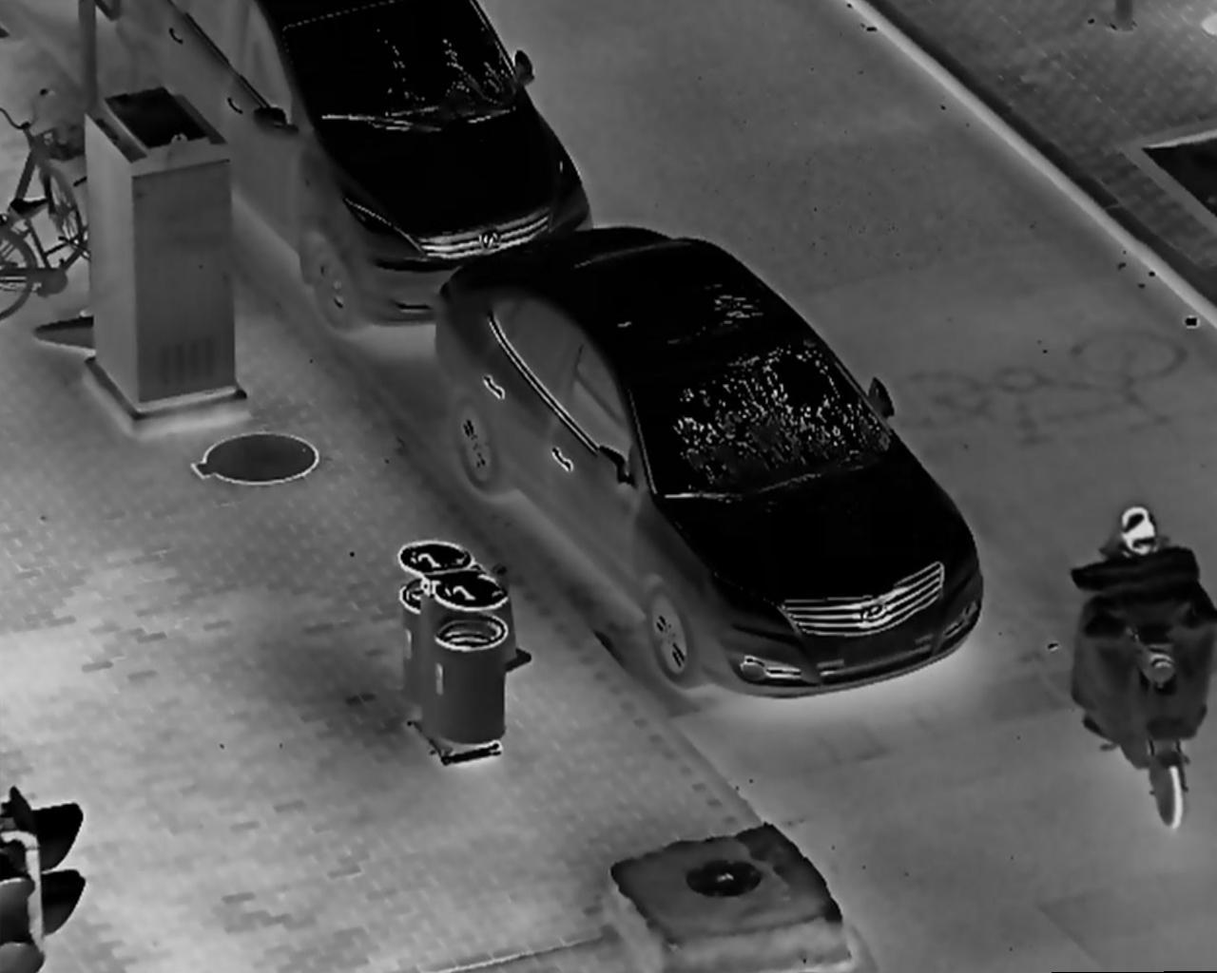person: (1087, 500, 1200, 724)
